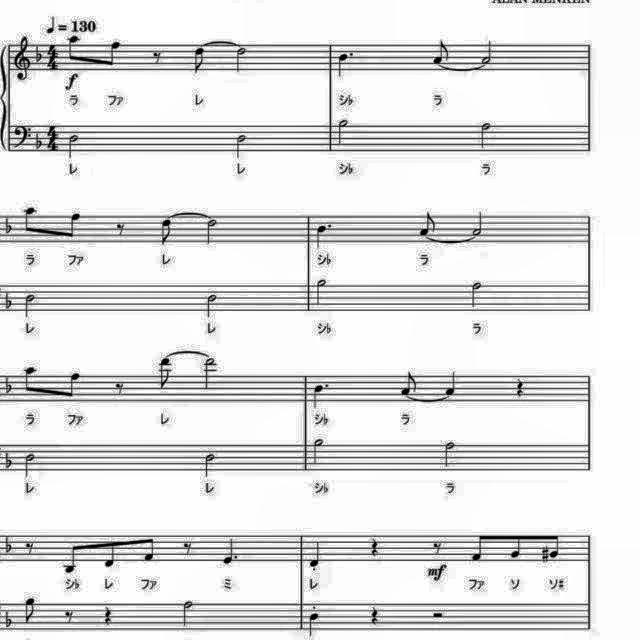Bass-clef: (13, 122, 34, 152)
Bemol: (1, 288, 16, 312), (1, 449, 16, 471), (1, 531, 16, 553), (1, 608, 16, 630), (1, 212, 15, 235), (32, 41, 46, 64), (4, 374, 16, 398), (33, 130, 45, 150)
Diez: (537, 538, 555, 566)
Eighth-note: (60, 540, 84, 576), (62, 209, 86, 243), (60, 368, 84, 402), (21, 202, 43, 238), (21, 363, 43, 399), (98, 536, 120, 572), (157, 355, 176, 393), (430, 38, 454, 68), (416, 208, 440, 238), (398, 369, 422, 399), (468, 530, 488, 564), (104, 36, 125, 68), (188, 44, 208, 76), (64, 34, 84, 66), (139, 534, 159, 566), (158, 218, 178, 248), (505, 532, 523, 564), (22, 594, 40, 626), (548, 532, 566, 564)
Eighth-rest: (429, 536, 446, 560), (111, 218, 129, 240), (147, 48, 165, 68), (111, 379, 127, 399), (62, 608, 78, 628), (22, 536, 38, 556), (180, 537, 194, 557)
Half-note: (476, 118, 496, 152), (468, 277, 488, 311), (200, 356, 220, 390), (440, 438, 460, 470), (334, 116, 354, 148), (308, 435, 328, 467), (232, 130, 252, 162), (313, 274, 332, 306), (20, 449, 40, 479), (200, 449, 220, 479), (20, 291, 40, 321), (203, 216, 221, 248), (181, 600, 199, 632), (233, 44, 251, 76), (468, 209, 486, 239), (203, 291, 221, 321), (479, 39, 496, 67), (66, 132, 82, 160)
Half-rest: (428, 606, 446, 622)
Quarter-dot: (310, 221, 336, 253), (312, 378, 336, 410), (334, 48, 358, 80), (219, 536, 241, 568)
Quarter-note: (306, 540, 326, 572), (304, 608, 322, 640), (439, 368, 459, 396)
Quarter-rest: (366, 535, 382, 561), (366, 604, 382, 630), (514, 374, 530, 398), (100, 604, 116, 628)
Treble-clef: (13, 34, 35, 86)
